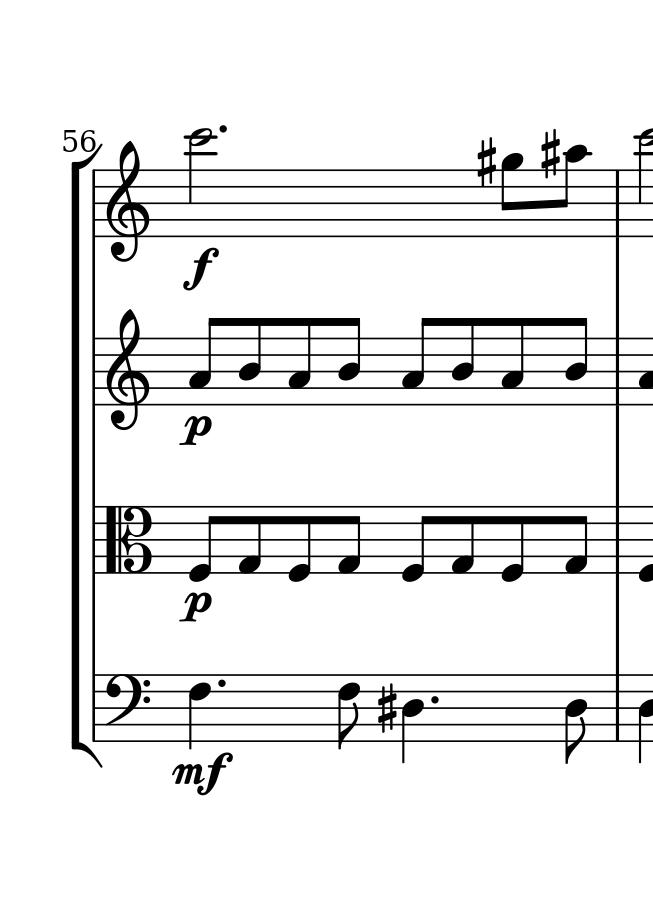2_12: (184, 125, 218, 238)
4_4: (400, 671, 427, 765)
4_6: (187, 672, 214, 753)
5: (60, 126, 78, 154)
6: (78, 123, 95, 153)
8_0: (187, 504, 223, 584), (399, 503, 434, 585), (498, 504, 526, 584), (285, 504, 313, 583)
8_1: (561, 504, 590, 578), (449, 505, 478, 577), (236, 504, 264, 575), (335, 505, 362, 577)
8_10: (557, 144, 588, 240)
8_3: (401, 317, 436, 408), (187, 315, 219, 409), (287, 316, 314, 408), (500, 316, 527, 408)
8_4: (236, 316, 264, 408), (450, 316, 478, 407), (335, 316, 362, 408), (564, 316, 590, 409), (564, 673, 590, 765)
8_6: (333, 674, 363, 754)
8_9: (500, 153, 525, 238)
Bracke: (67, 142, 103, 771)
Cclef: (104, 504, 158, 573)
Fclef: (105, 673, 151, 744)
Gclef: (104, 307, 151, 431), (105, 139, 150, 262)
Sharp: (375, 682, 397, 736), (477, 135, 497, 188), (541, 126, 560, 180)
Single_barline: (608, 505, 625, 575), (85, 505, 102, 574), (609, 673, 626, 741), (609, 339, 626, 405), (609, 170, 625, 237), (87, 169, 102, 238), (87, 674, 102, 742), (87, 338, 101, 406)
dot: (427, 692, 443, 707), (215, 675, 228, 691), (216, 123, 229, 139)
f: (184, 246, 221, 292)
mf: (171, 752, 234, 798)
p: (180, 415, 212, 448), (178, 592, 211, 624)
